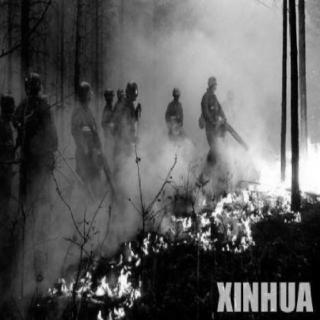Fire: (175, 156, 318, 254)
